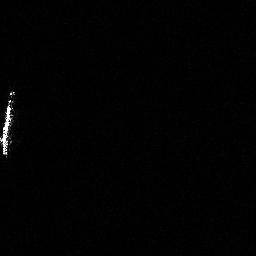ship: (1, 87, 21, 159)
